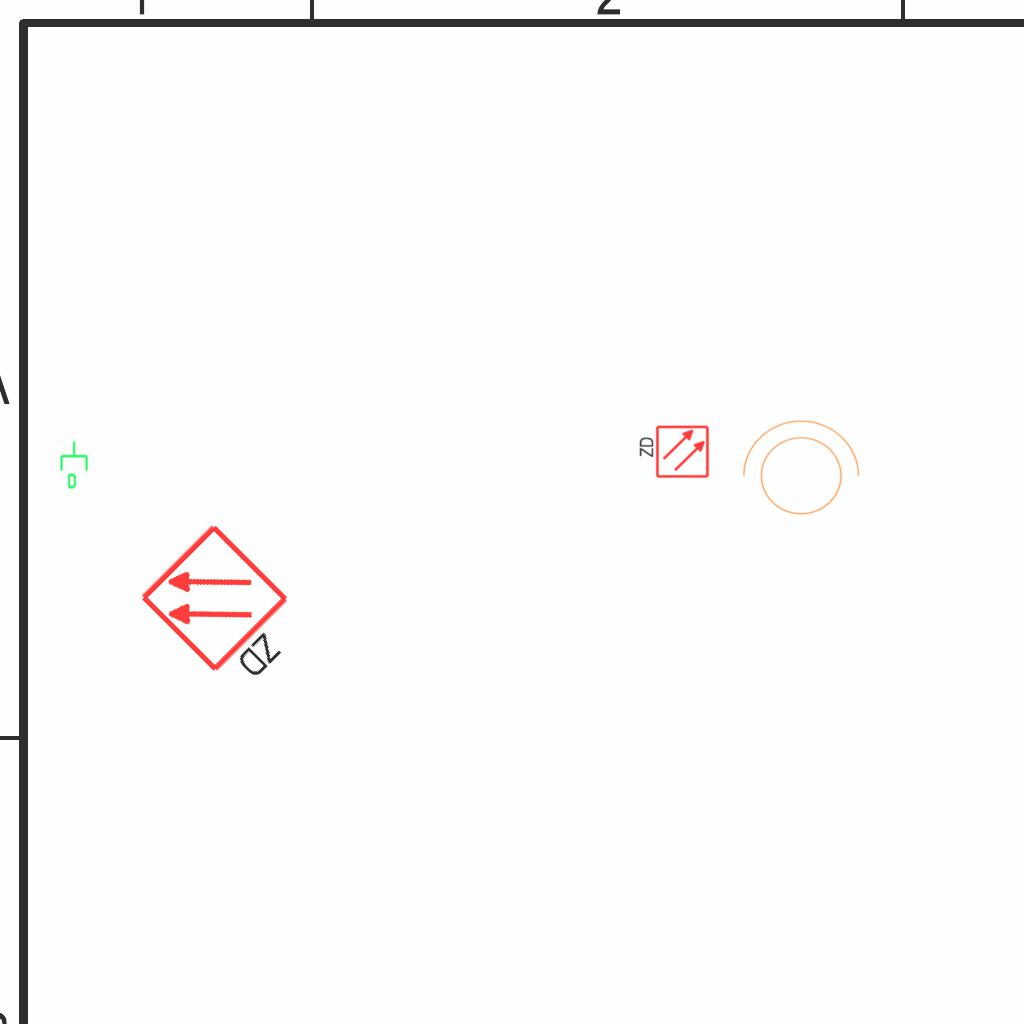Datenanschluss_einfach: (58, 440, 92, 490)
Scheinwerfer_fuer_Alarmbeleuchtung: (732, 415, 864, 527)
ZD_Melder_in_Zwischendecke_mit_Revisionsoeffnung_mind_40_x_40_cm: (136, 517, 322, 704), (636, 424, 710, 481)
